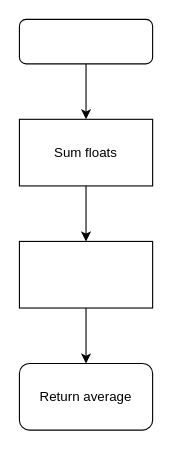
This 172x450 diagram has some shape labels left out. Each missing label, with the box of its shape:
Divide by float count: (18, 240, 153, 308)
Sub (5 floats): (18, 18, 153, 64)
